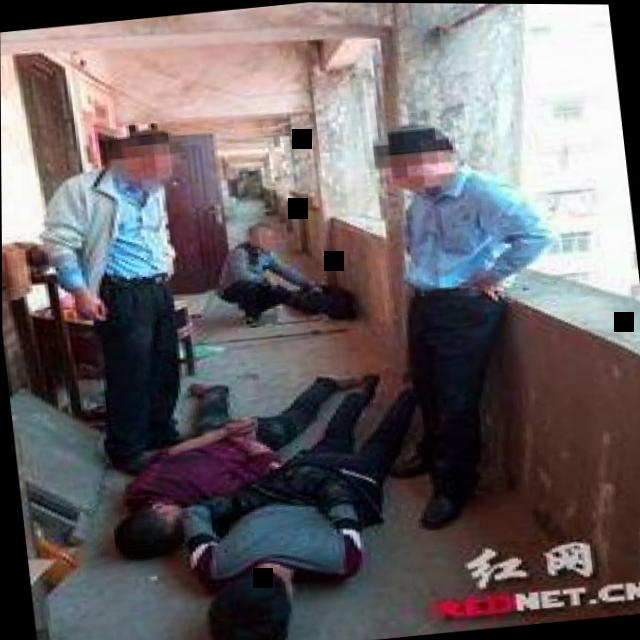Fall-Detected: (82, 344, 340, 595)
